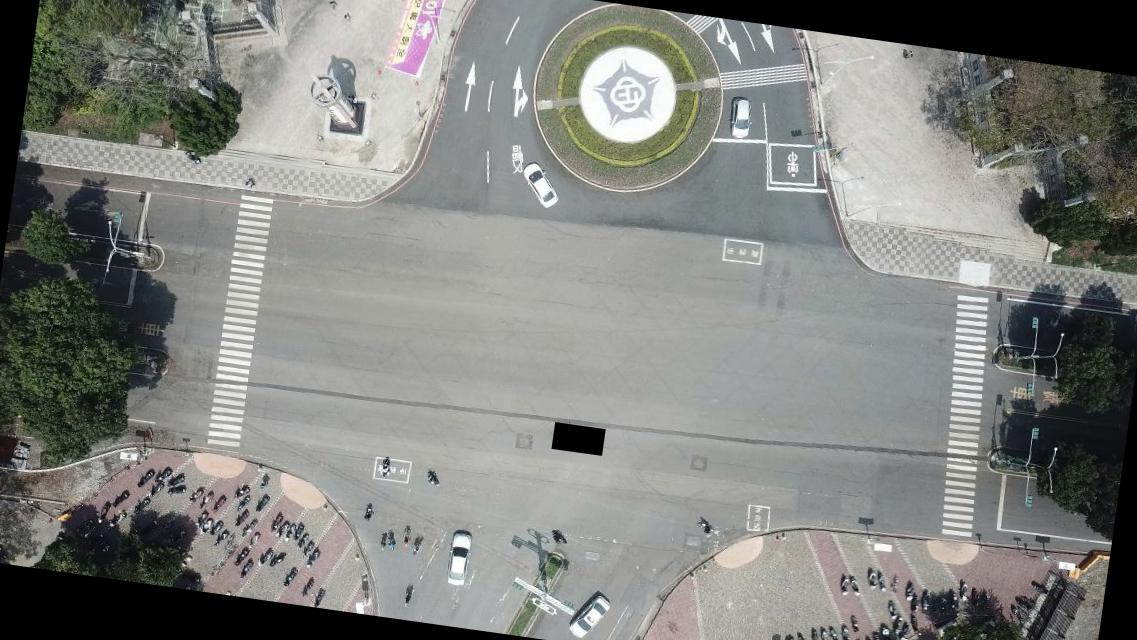vehicle: (566, 588, 614, 639), (516, 159, 562, 212), (444, 528, 475, 588), (725, 96, 756, 142)
